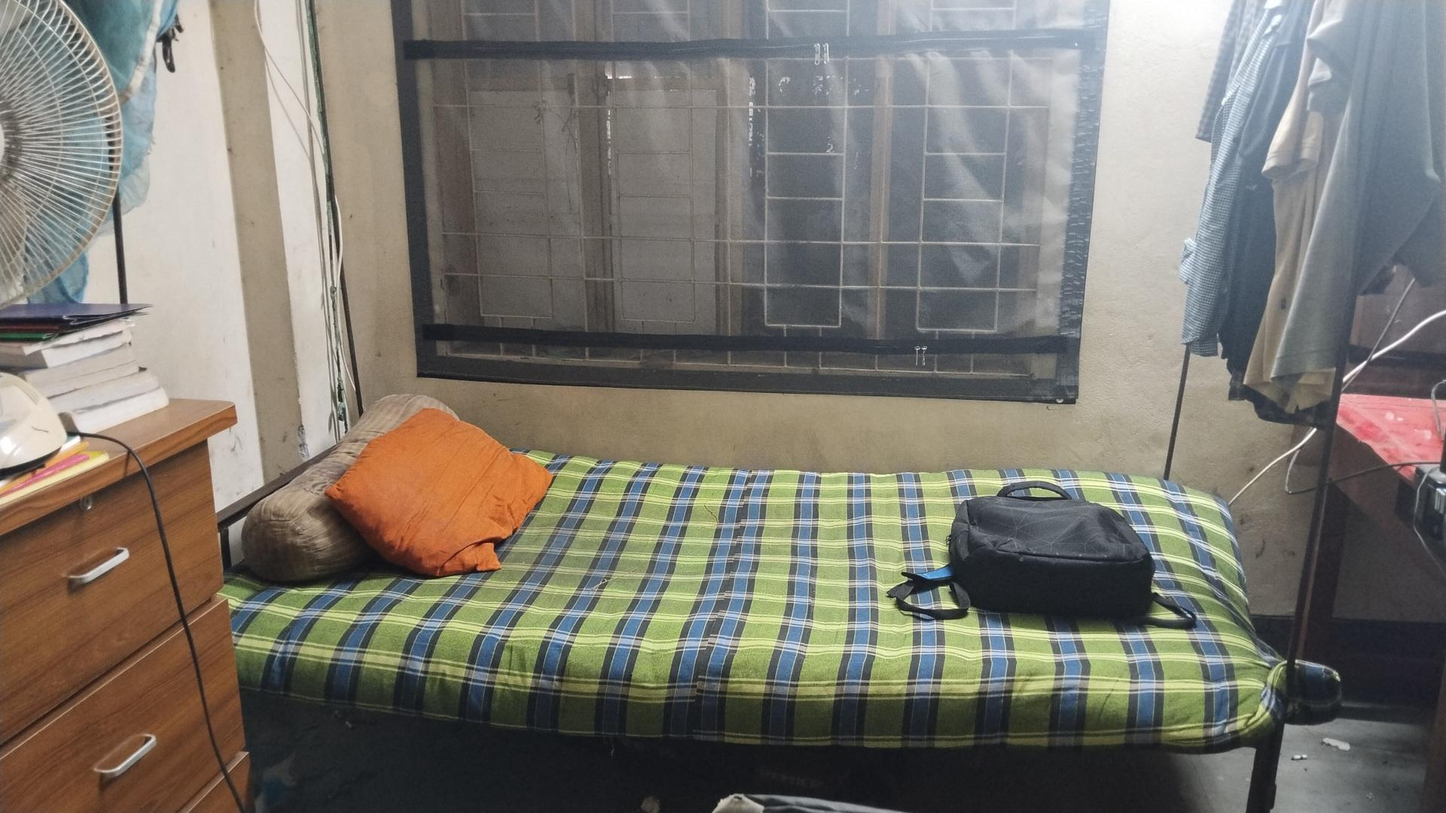Bag: (947, 493, 1152, 623)
Pillow: (333, 413, 553, 571)
